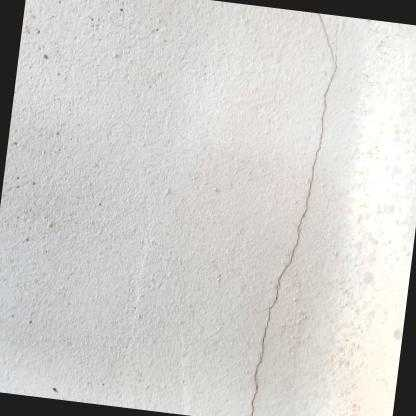crack: (308, 29, 336, 196), (261, 227, 299, 347), (316, 12, 334, 64), (296, 194, 307, 232), (253, 352, 262, 382), (250, 380, 256, 416), (259, 346, 263, 356)
